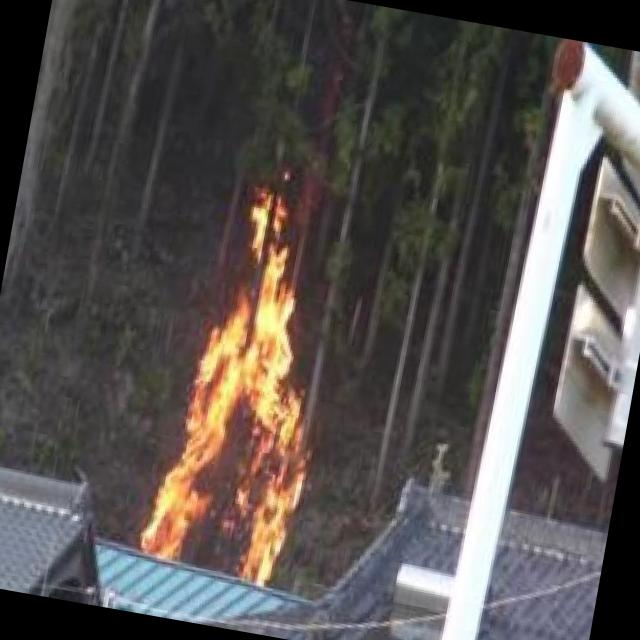Fire: (135, 193, 354, 592)
